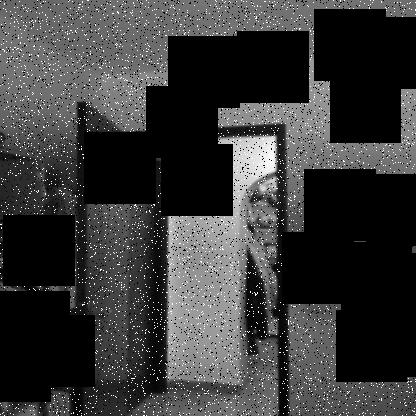Porte: (60, 99, 292, 416)
